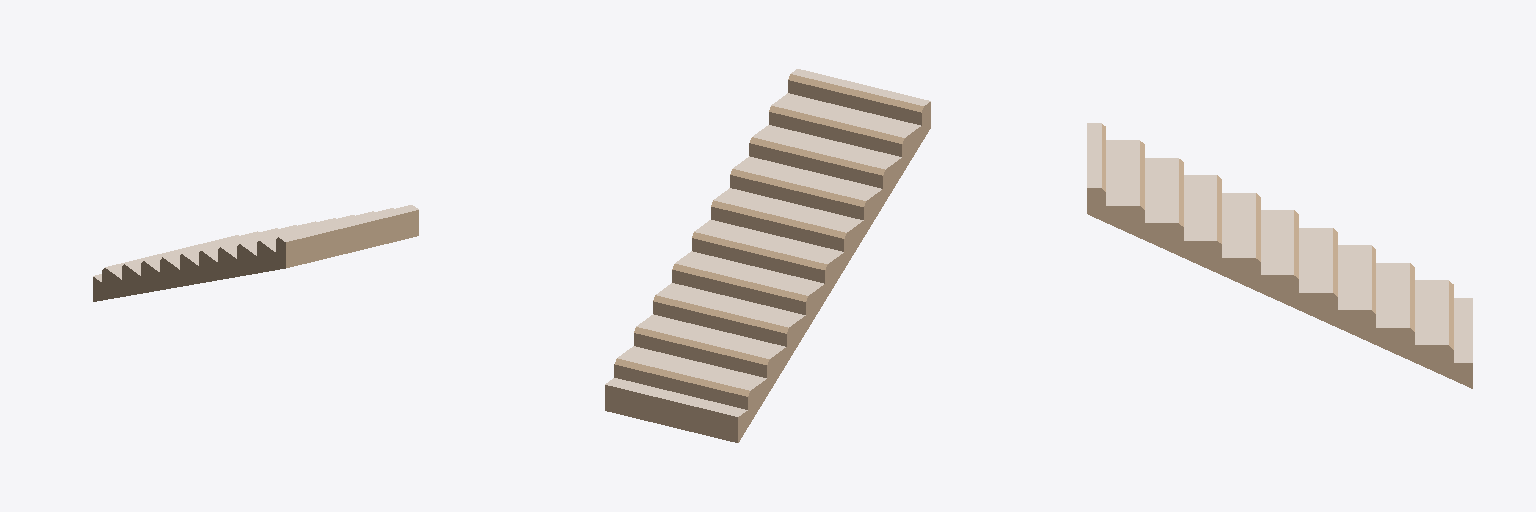
Rendered from Stairs_Steps_Straight.obj.
3 views of the same model, side by side, from view 1: azimuth 30°, elevation 25°; view 2: azimuth 150°, elevation 25°; view 3: azimuth 270°, elevation 25° (orthographic).
Visible parts, largest first — view 1: object1; view 2: object1; view 3: object1.
Part boxes in pixels (x1,y1,x2,y2): object1: (93, 205, 418, 301); object1: (605, 69, 930, 442); object1: (1087, 123, 1472, 388).
Bounding box in the file's own units: 0.8 × 1.15 × 2.